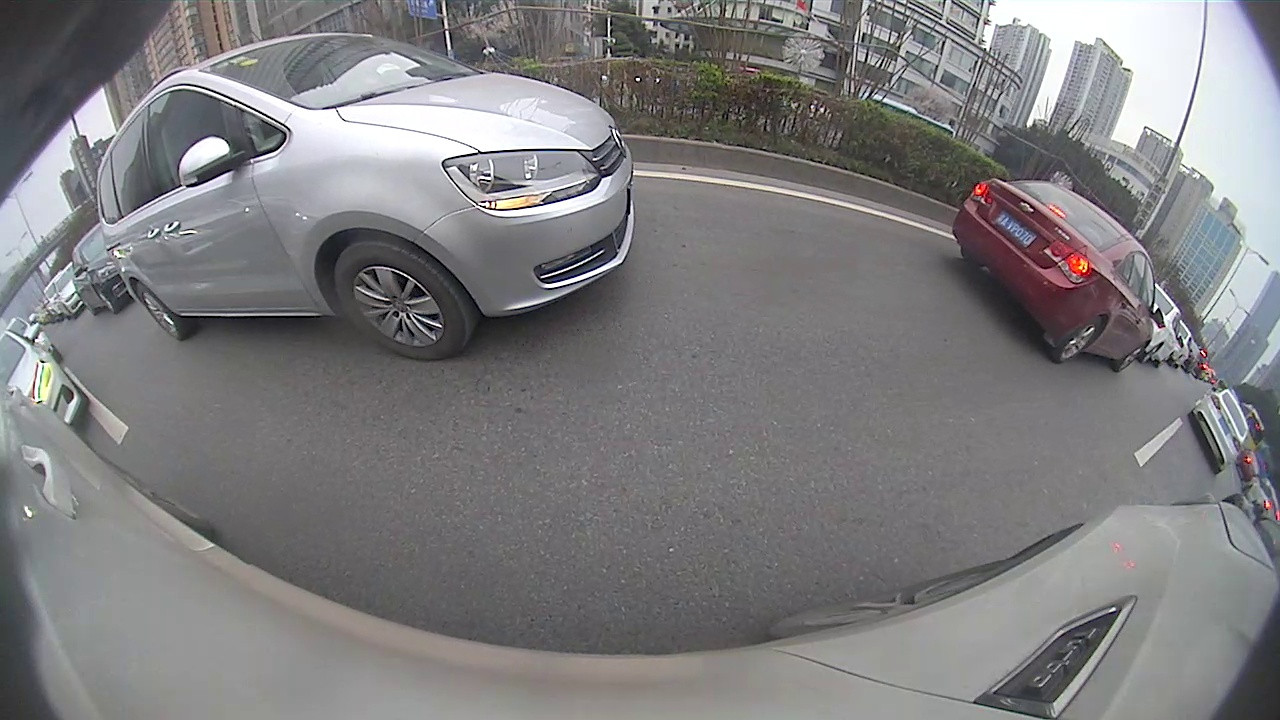car: (94, 30, 639, 364), (950, 177, 1166, 373), (1188, 387, 1251, 476)
front: (330, 246, 472, 360), (1112, 345, 1151, 374)
rear: (135, 280, 188, 344), (1051, 314, 1107, 367)
